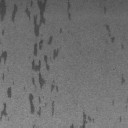red iron: (0, 0, 62, 116), (0, 50, 12, 120), (70, 112, 96, 128), (103, 24, 115, 42), (66, 0, 72, 20), (121, 74, 126, 86), (103, 6, 106, 14)
